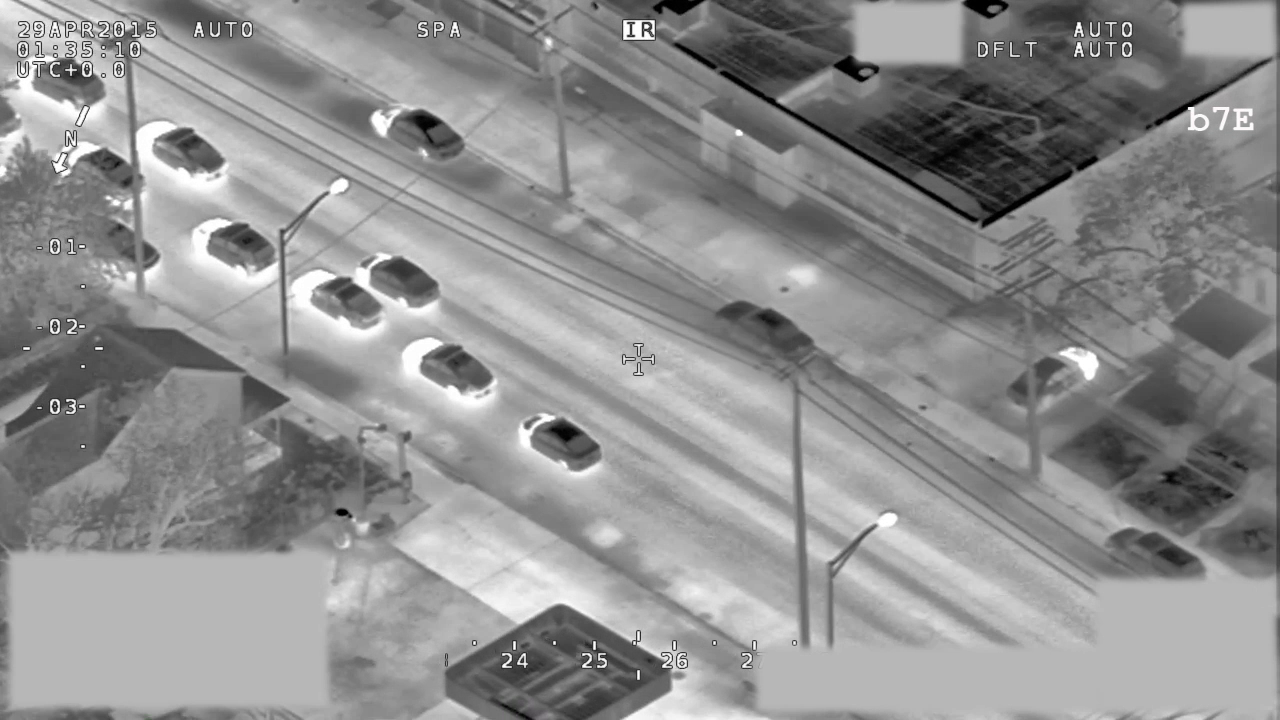vehicle: (710, 297, 816, 368), (1002, 341, 1101, 413), (400, 335, 497, 407), (136, 120, 226, 186), (371, 101, 466, 163), (292, 268, 382, 333), (1106, 525, 1211, 580), (518, 410, 602, 474), (355, 252, 443, 311), (191, 216, 277, 275), (63, 141, 142, 203), (20, 53, 105, 110), (81, 214, 159, 274)
